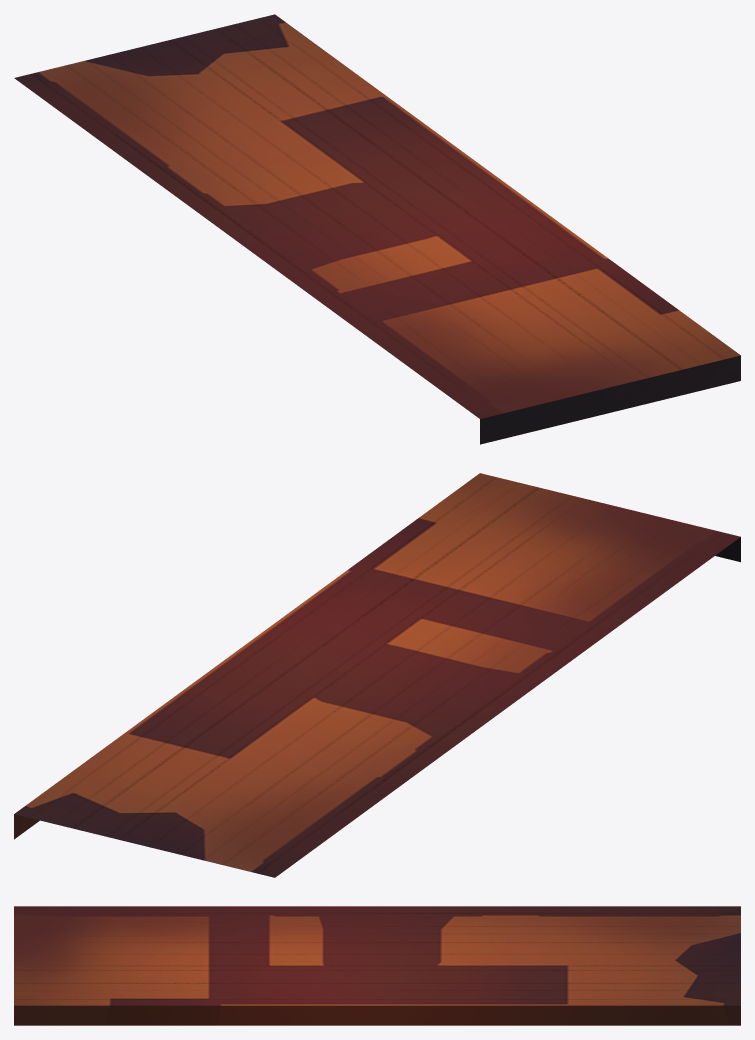
The model's file is Tx_props_judge_platform_53.fbx.
3 renders of one model, top to bottom at view 1: azimuth 30°, elevation 25°; view 2: azimuth 150°, elevation 25°; view 3: azimuth 270°, elevation 25°, orthographic. The views are drawn at different scales.
Visible parts, largest first — view 1: Tx_props_judge_platform; view 2: Tx_props_judge_platform; view 3: Tx_props_judge_platform.
Part boxes in pixels (left/top/right/bottom): Tx_props_judge_platform: left=14, top=14, right=740, bottom=444; Tx_props_judge_platform: left=14, top=473, right=740, bottom=877; Tx_props_judge_platform: left=14, top=906, right=740, bottom=1025.
Bounding box in the file's own units: 9.55 × 0.8914 × 29.52.
